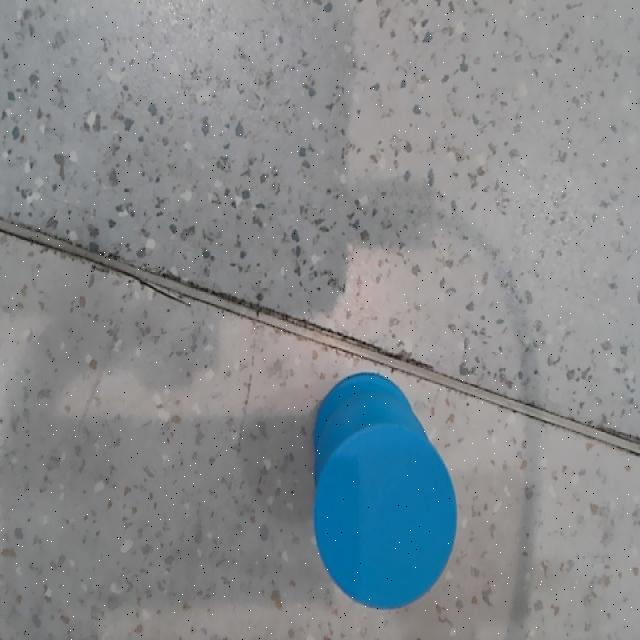b: (314, 425, 457, 608)
